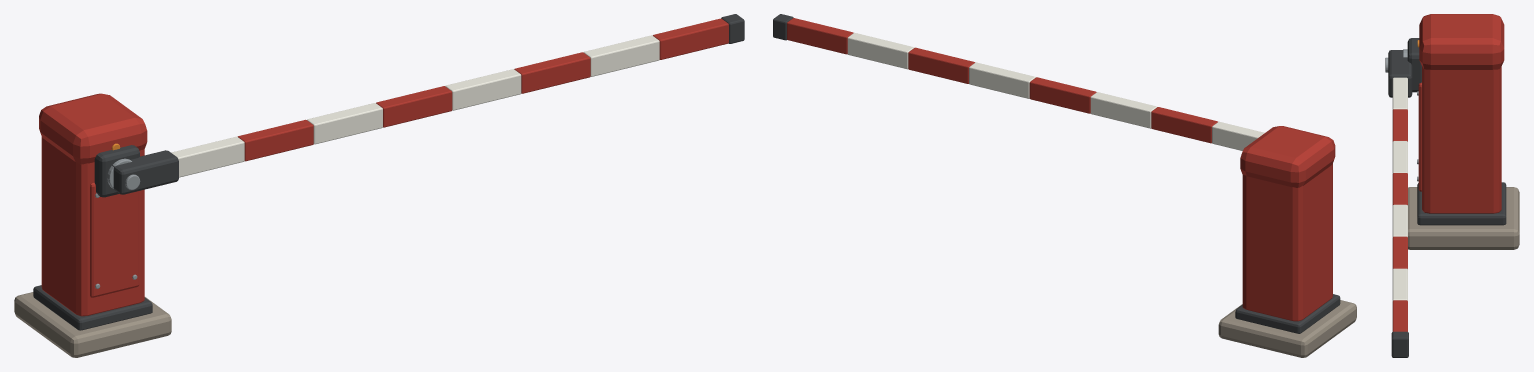
File: barriere_parking_musee.glb
3 views of the same model, side by side, from view 1: azimuth 30°, elevation 25°; view 2: azimuth 150°, elevation 25°; view 3: azimuth 270°, elevation 25° (orthographic). The views are drawn at different scales.
Parts seen in each view (by area): view 1: Moteur_Barriere, Bras_Barriere; view 2: Moteur_Barriere, Bras_Barriere; view 3: Moteur_Barriere, Bras_Barriere.
Part boxes in pixels (<box>): Moteur_Barriere: <box>14,93,171,357</box>; Bras_Barriere: <box>112,14,744,194</box>; Moteur_Barriere: <box>1218,126,1356,357</box>; Bras_Barriere: <box>773,14,1264,150</box>; Moteur_Barriere: <box>1403,14,1519,249</box>; Bras_Barriere: <box>1385,50,1412,357</box>.
Size of the model in its own units: 3.83 by 1.18 by 0.709.
